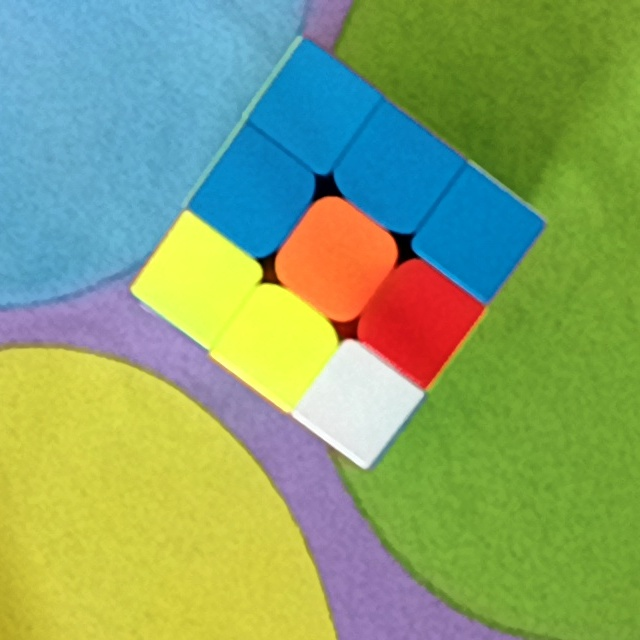tile: (225, 160, 295, 229), (165, 243, 232, 315), (443, 202, 511, 272), (303, 223, 368, 296), (383, 288, 451, 357), (357, 140, 430, 204), (277, 73, 346, 140), (241, 312, 313, 376), (321, 371, 391, 434)
